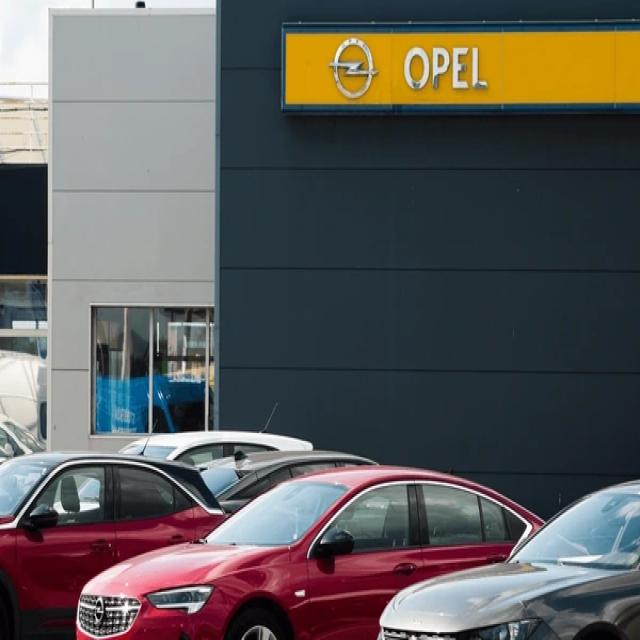opel: (329, 33, 383, 105), (90, 599, 107, 624)
